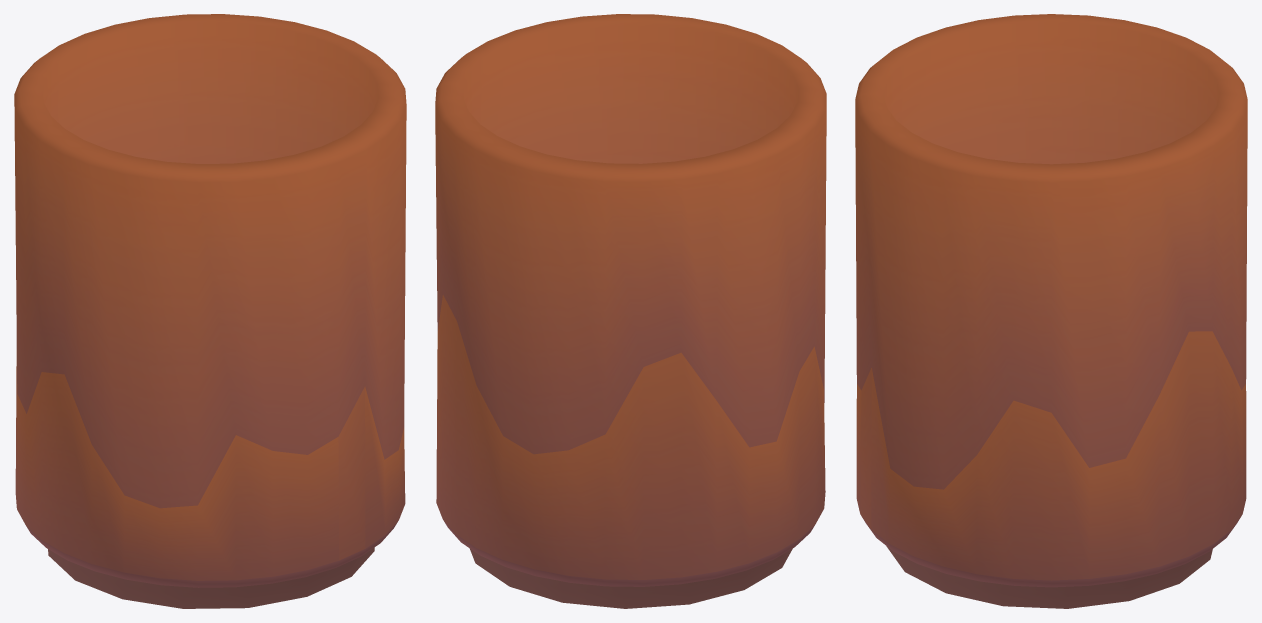
The model's file is actually player cup.glb.
3 views of the same model, side by side, from view 1: azimuth 30°, elevation 25°; view 2: azimuth 150°, elevation 25°; view 3: azimuth 270°, elevation 25° (orthographic).
Parts seen in each view (by area): view 1: Cylinder; view 2: Cylinder; view 3: Cylinder.
Part boxes in pixels (x1,y1,x2,y2): Cylinder: [14, 14, 406, 608]; Cylinder: [435, 14, 826, 608]; Cylinder: [855, 14, 1247, 608].
Bounding box in the file's own units: 1.99 × 2.5 × 1.99.
1 material, 1 textured.
